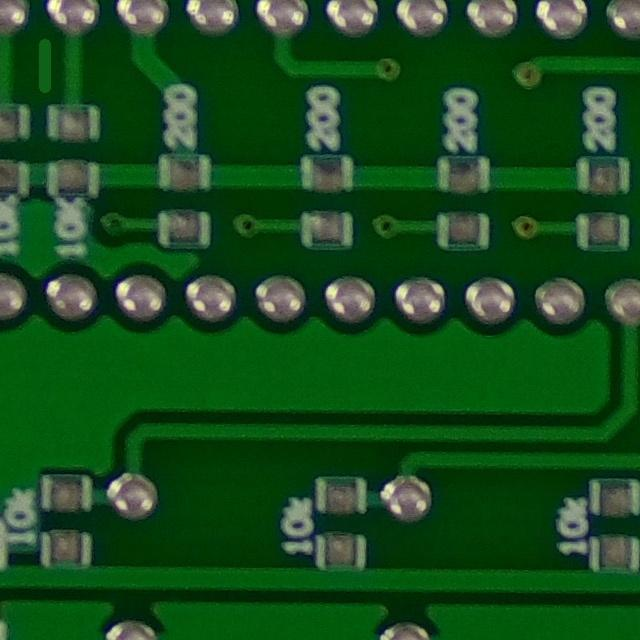spurious_copper: (20, 30, 66, 101)
